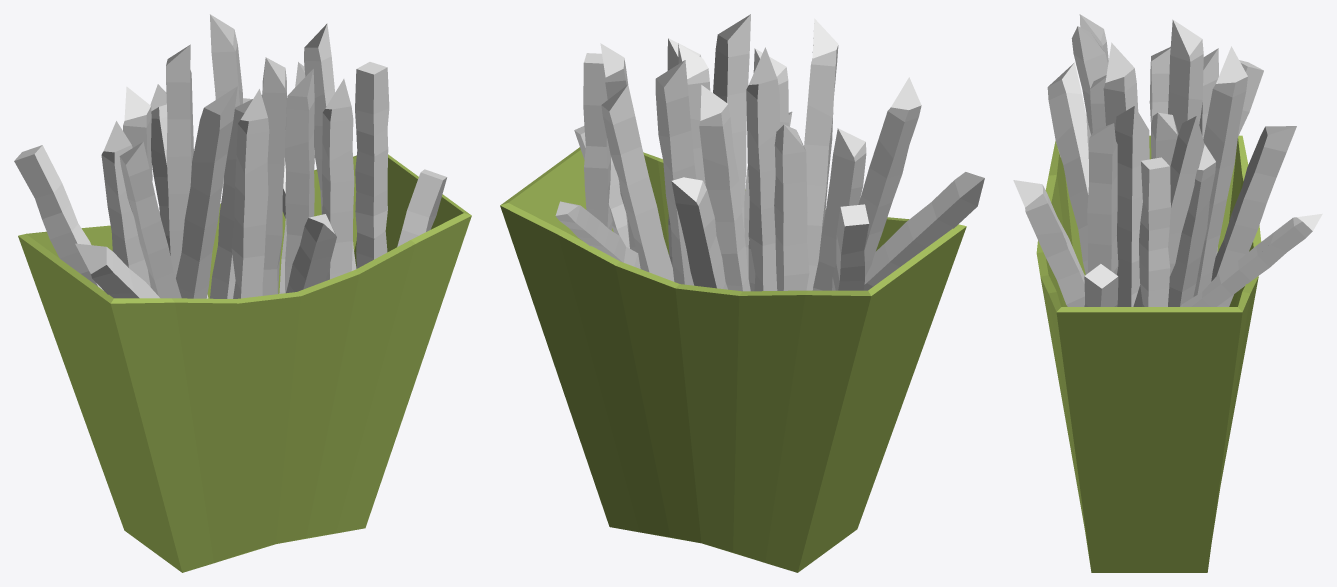
Rendered from french fries.fbx.
The picture shows the model from 3 angles, left to right: view 1: azimuth 30°, elevation 25°; view 2: azimuth 150°, elevation 25°; view 3: azimuth 270°, elevation 25°; orthographic projection. The views are drawn at different scales.
Visible parts, largest first — view 1: Cube, Cube.015, Cube.010, Cube.007, Cube.006, Cube.017, Cube.004, Cube.001, Cube.014, Cube.016, Cube.013, Cube.008 (+7 smaller); view 2: Cube, Cube.017, Cube.020, Cube.008, Cube.015, Cube.019, Cube.002, Cube.014, Cube.009, Cube.001, Cube.010, Cube.013 (+7 smaller); view 3: Cube, Cube.002, Cube.004, Cube.018, Cube.009, Cube.010, Cube.006, Cube.003, Cube.011, Cube.020, Cube.017, Cube.005 (+9 smaller).
Boxes of the visible parts, x1=… form: Cube: x1=18, y1=154, x2=471, y2=572; Cube.015: x1=176, y1=86, x2=237, y2=298; Cube.010: x1=355, y1=62, x2=389, y2=268; Cube.007: x1=231, y1=89, x2=269, y2=298; Cube.006: x1=322, y1=79, x2=354, y2=280; Cube.017: x1=166, y1=44, x2=193, y2=277; Cube.004: x1=284, y1=69, x2=314, y2=293; Cube.001: x1=262, y1=57, x2=286, y2=295; Cube.014: x1=119, y1=141, x2=181, y2=298; Cube.016: x1=14, y1=145, x2=103, y2=290; Cube.013: x1=101, y1=121, x2=150, y2=287; Cube.008: x1=210, y1=95, x2=262, y2=298; Cube: x1=500, y1=147, x2=966, y2=572; Cube.017: x1=746, y1=47, x2=779, y2=291; Cube.020: x1=601, y1=84, x2=674, y2=281; Cube.008: x1=699, y1=85, x2=750, y2=291; Cube.015: x1=804, y1=18, x2=838, y2=290; Cube.019: x1=774, y1=124, x2=809, y2=290; Cube.002: x1=655, y1=60, x2=696, y2=285; Cube.014: x1=858, y1=77, x2=921, y2=276; Cube.009: x1=863, y1=172, x2=984, y2=290; Cube.001: x1=713, y1=14, x2=750, y2=234; Cube.010: x1=583, y1=53, x2=612, y2=230; Cube.013: x1=812, y1=128, x2=866, y2=290; Cube: x1=1036, y1=135, x2=1261, y2=572; Cube.002: x1=1193, y1=46, x2=1247, y2=296; Cube.004: x1=1115, y1=106, x2=1149, y2=306; Cube.018: x1=1211, y1=126, x2=1296, y2=306; Cube.009: x1=1047, y1=62, x2=1088, y2=274; Cube.010: x1=1139, y1=157, x2=1170, y2=306; Cube.006: x1=1087, y1=123, x2=1118, y2=274; Cube.003: x1=1013, y1=180, x2=1084, y2=306; Cube.011: x1=1180, y1=213, x2=1322, y2=306; Cube.020: x1=1168, y1=144, x2=1215, y2=306; Cube.017: x1=1168, y1=19, x2=1203, y2=133; Cube.005: x1=1133, y1=116, x2=1204, y2=306.
Bounding box in the file's own units: 265 × 318 × 183.
